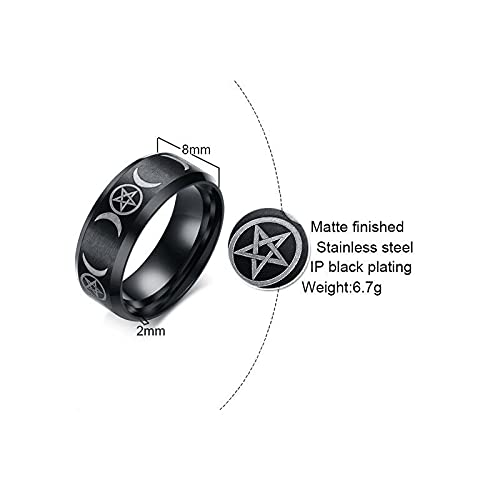2mm: (137, 326, 165, 336)
Matte: (311, 221, 348, 232)
Stainless: (317, 241, 377, 253)
Weight:6.7g: (302, 281, 381, 296)
\P: (311, 261, 324, 272)
black: (329, 261, 363, 272)
finished: (353, 221, 403, 232)
plating: (368, 261, 411, 275)
steel: (382, 241, 413, 253)
